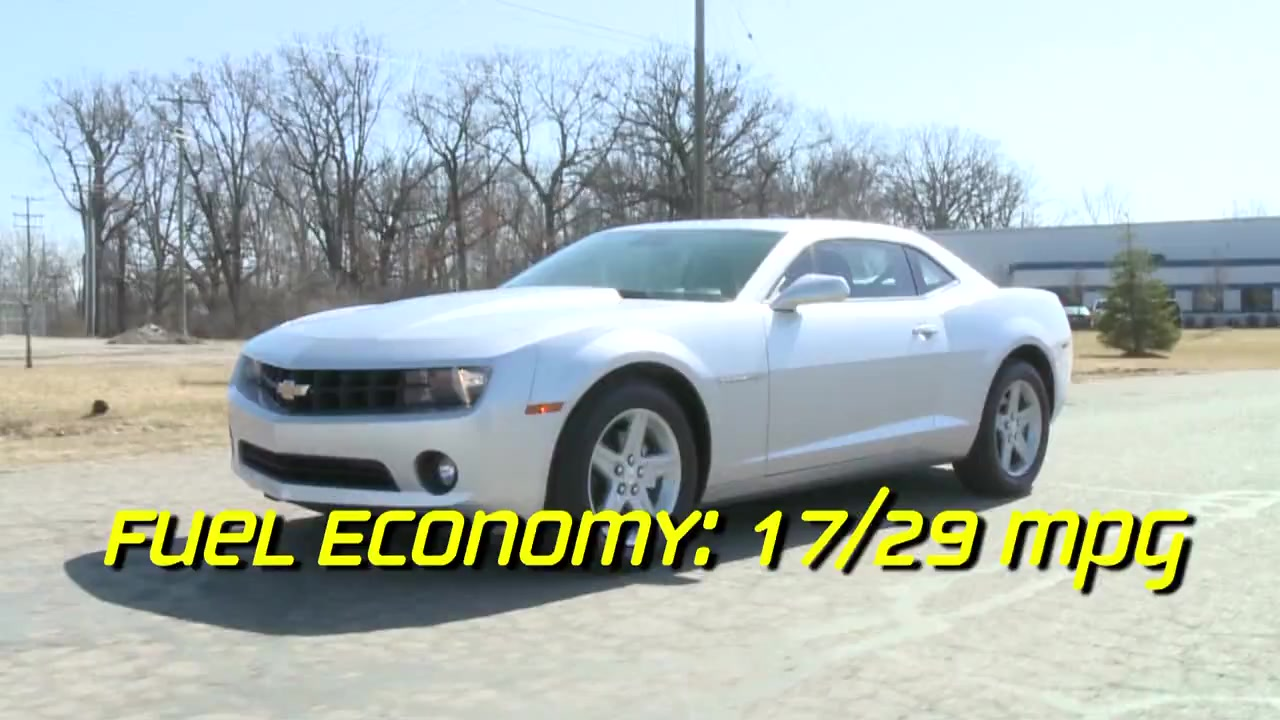car: (223, 212, 1082, 548)
